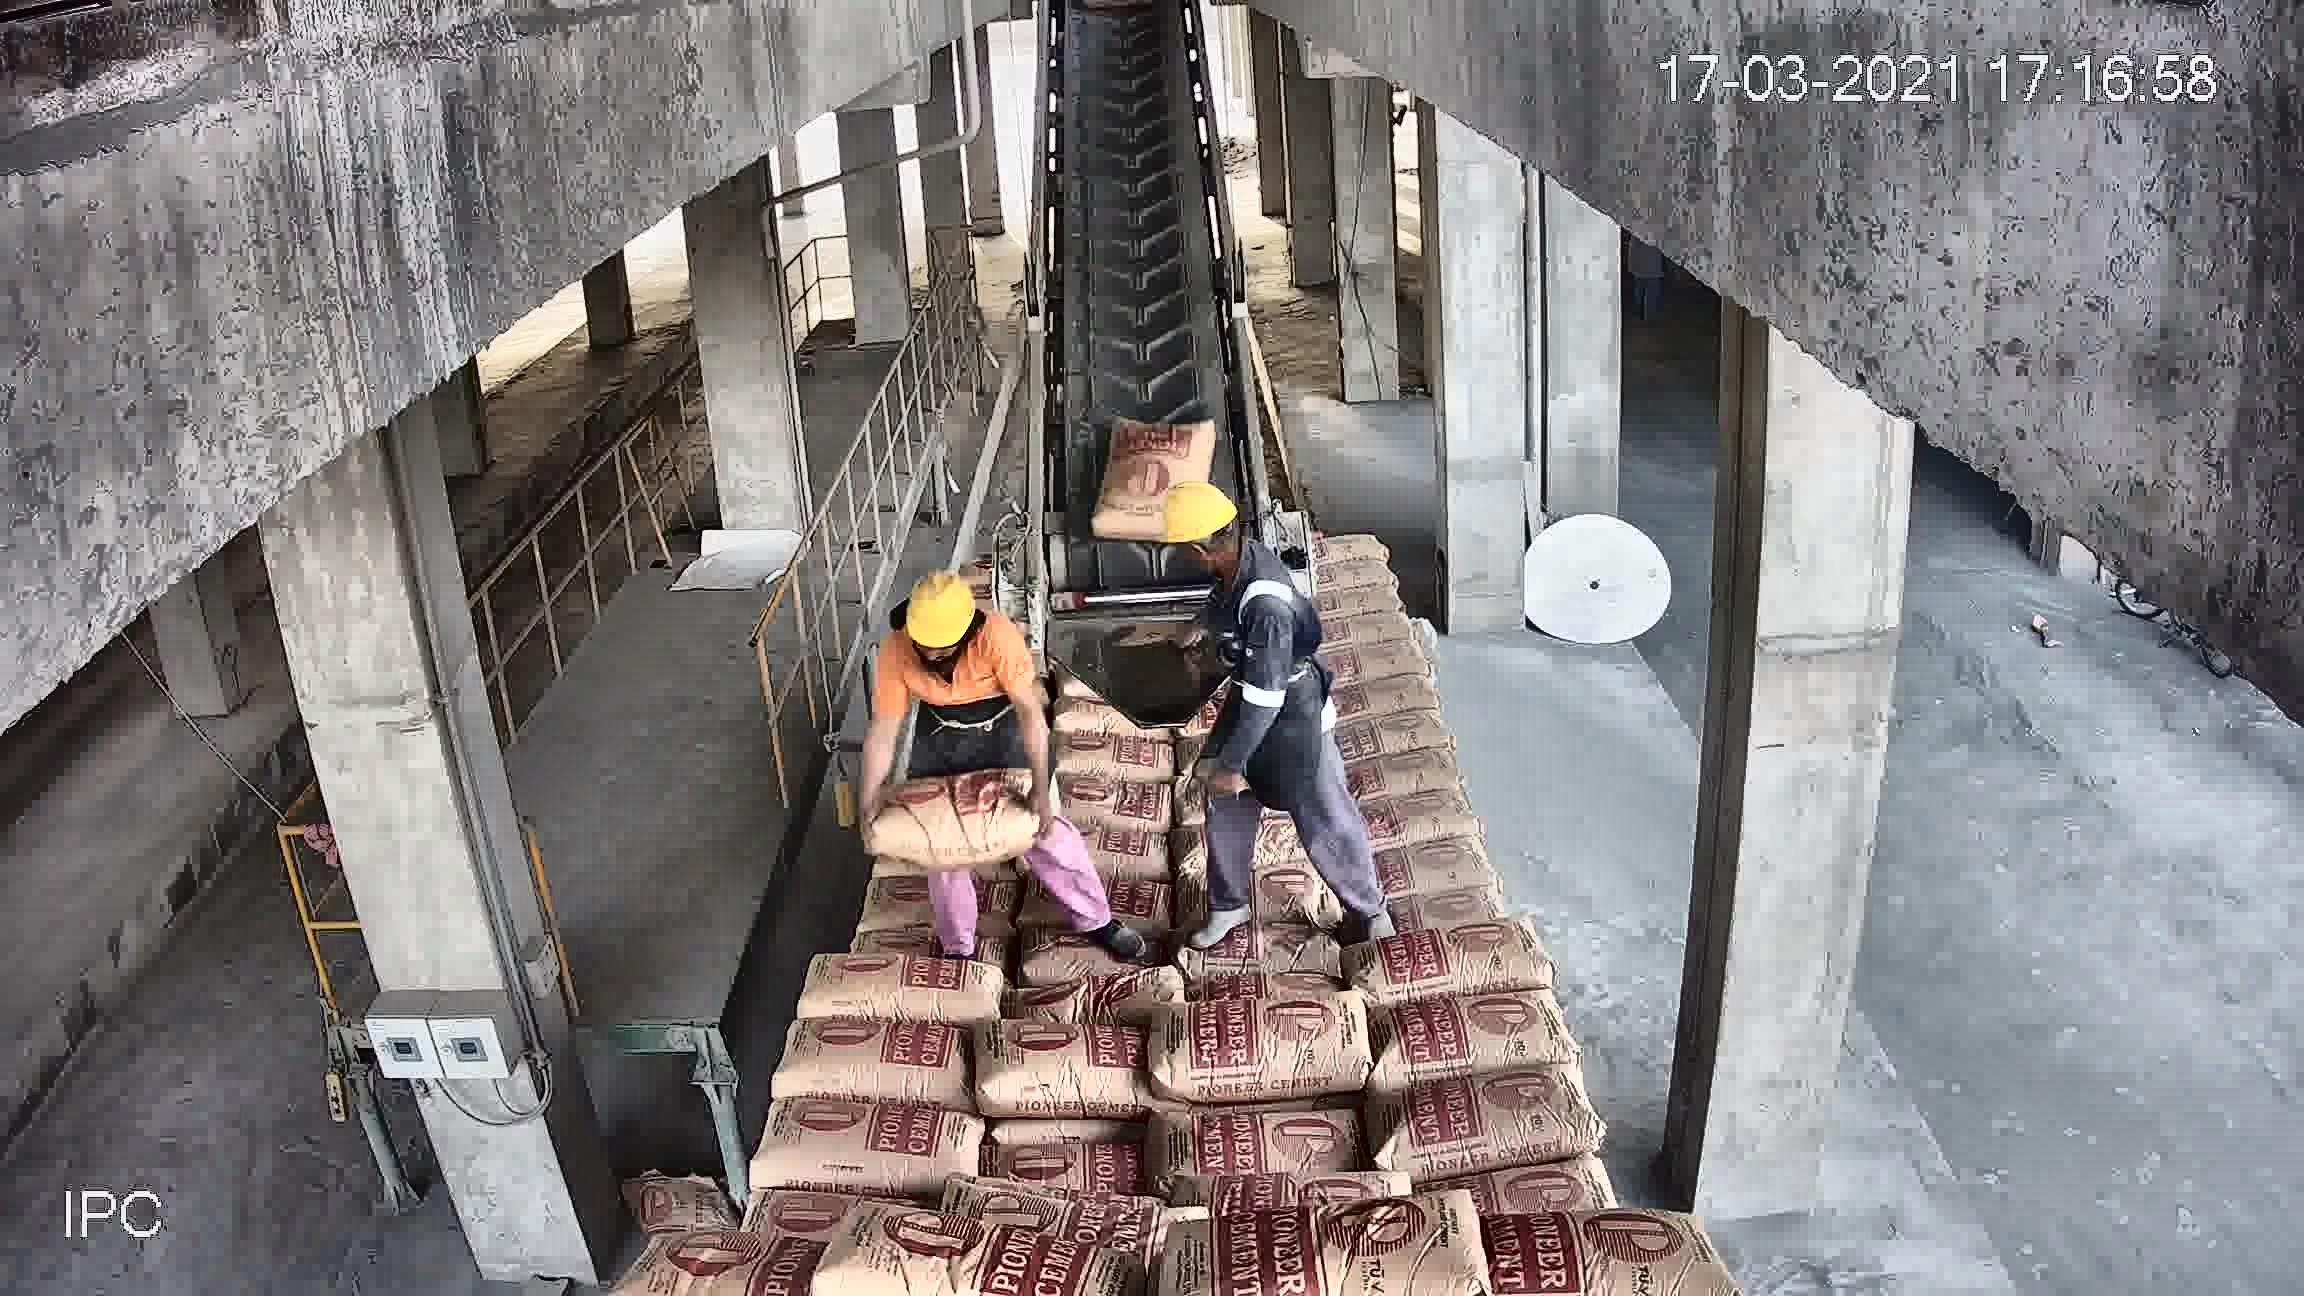bag: (1087, 413, 1217, 540)
bag_h: (1201, 1193, 1495, 1294), (1157, 992, 1381, 1106), (1443, 1203, 1711, 1294), (815, 1215, 1119, 1296), (748, 1101, 994, 1199), (1383, 1079, 1593, 1192), (976, 1014, 1154, 1130), (862, 766, 1055, 870), (1157, 1109, 1370, 1199), (766, 1021, 983, 1108), (1369, 989, 1576, 1078), (1350, 919, 1556, 1002), (635, 1228, 843, 1294), (801, 956, 984, 1024), (1000, 959, 1182, 1027), (991, 1147, 1158, 1204), (836, 911, 1021, 962), (1353, 783, 1484, 850), (1362, 839, 1494, 902), (1067, 772, 1180, 843), (1051, 726, 1185, 782), (1313, 669, 1438, 723), (1332, 704, 1451, 758), (1347, 750, 1461, 805), (1082, 828, 1174, 885), (1315, 641, 1435, 684), (1320, 612, 1423, 654), (1305, 552, 1407, 592), (1313, 584, 1400, 625), (1317, 524, 1397, 568)
belt: (1013, 54, 1261, 688)
